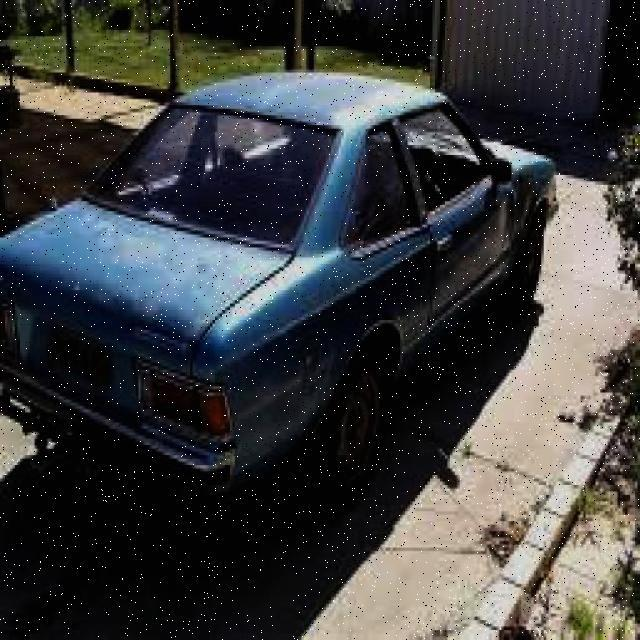car damage: (499, 176, 542, 267)
